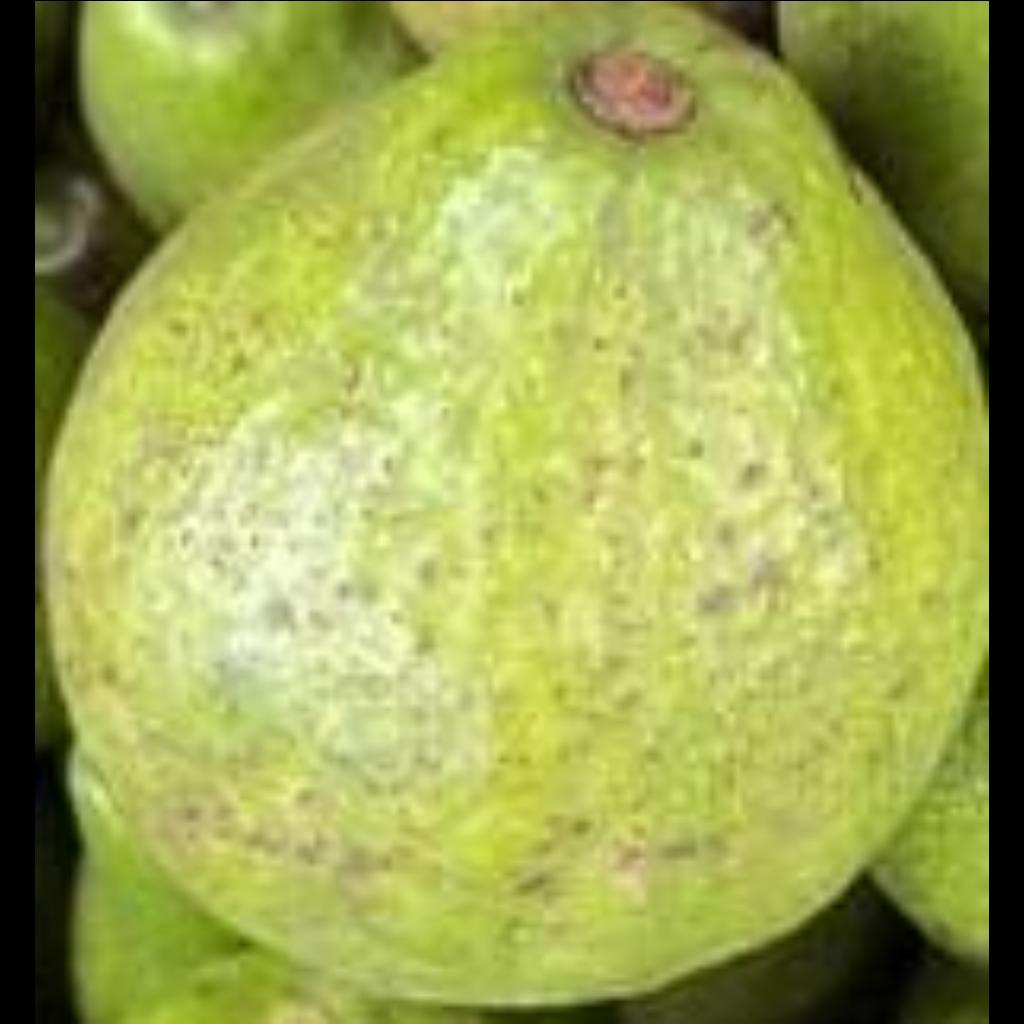fruto_sano: (35, 7, 989, 974)
